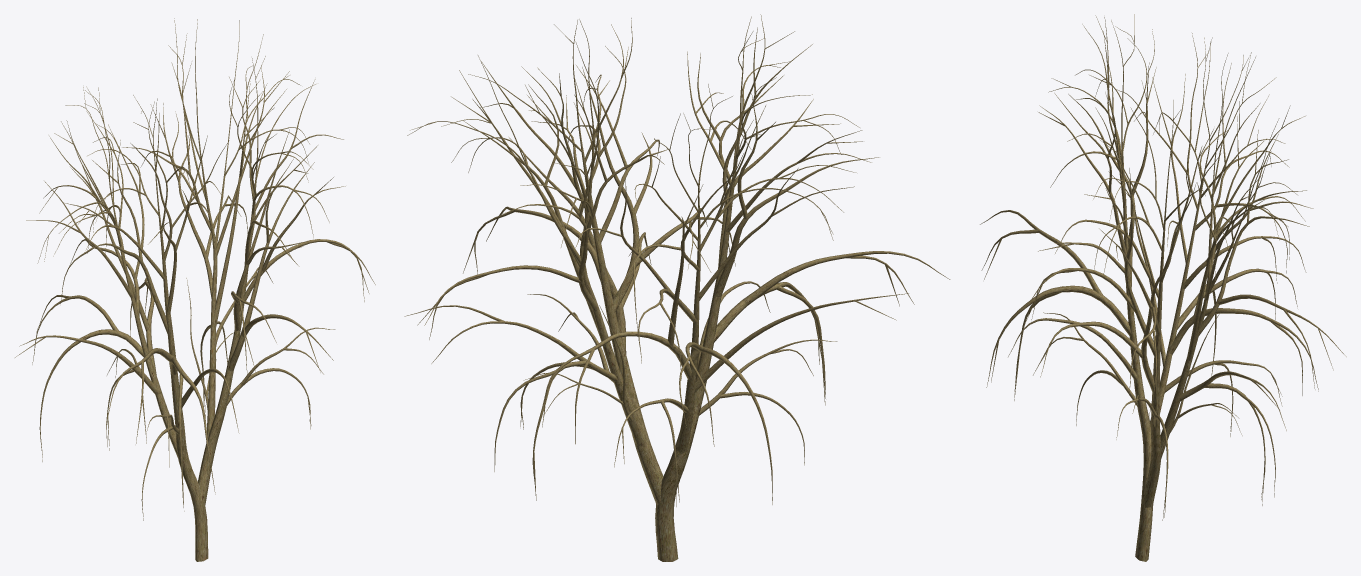
File: easy_world_tree001.dae
The picture shows the model from 3 angles, left to right: view 1: azimuth 30°, elevation 25°; view 2: azimuth 150°, elevation 25°; view 3: azimuth 270°, elevation 25°; orthographic projection. The views are drawn at different scales.
Visible parts, largest first — view 1: tree001; view 2: tree001; view 3: tree001.
Boxes of the visible parts, left/top/right/bottom form: tree001: left=15, top=18, right=375, bottom=561; tree001: left=404, top=14, right=950, bottom=561; tree001: left=980, top=14, right=1346, bottom=561.
Bounding box in the file's own units: 7.76 × 6.32 × 9.98.
Materials: 1 (1 with a texture image).
